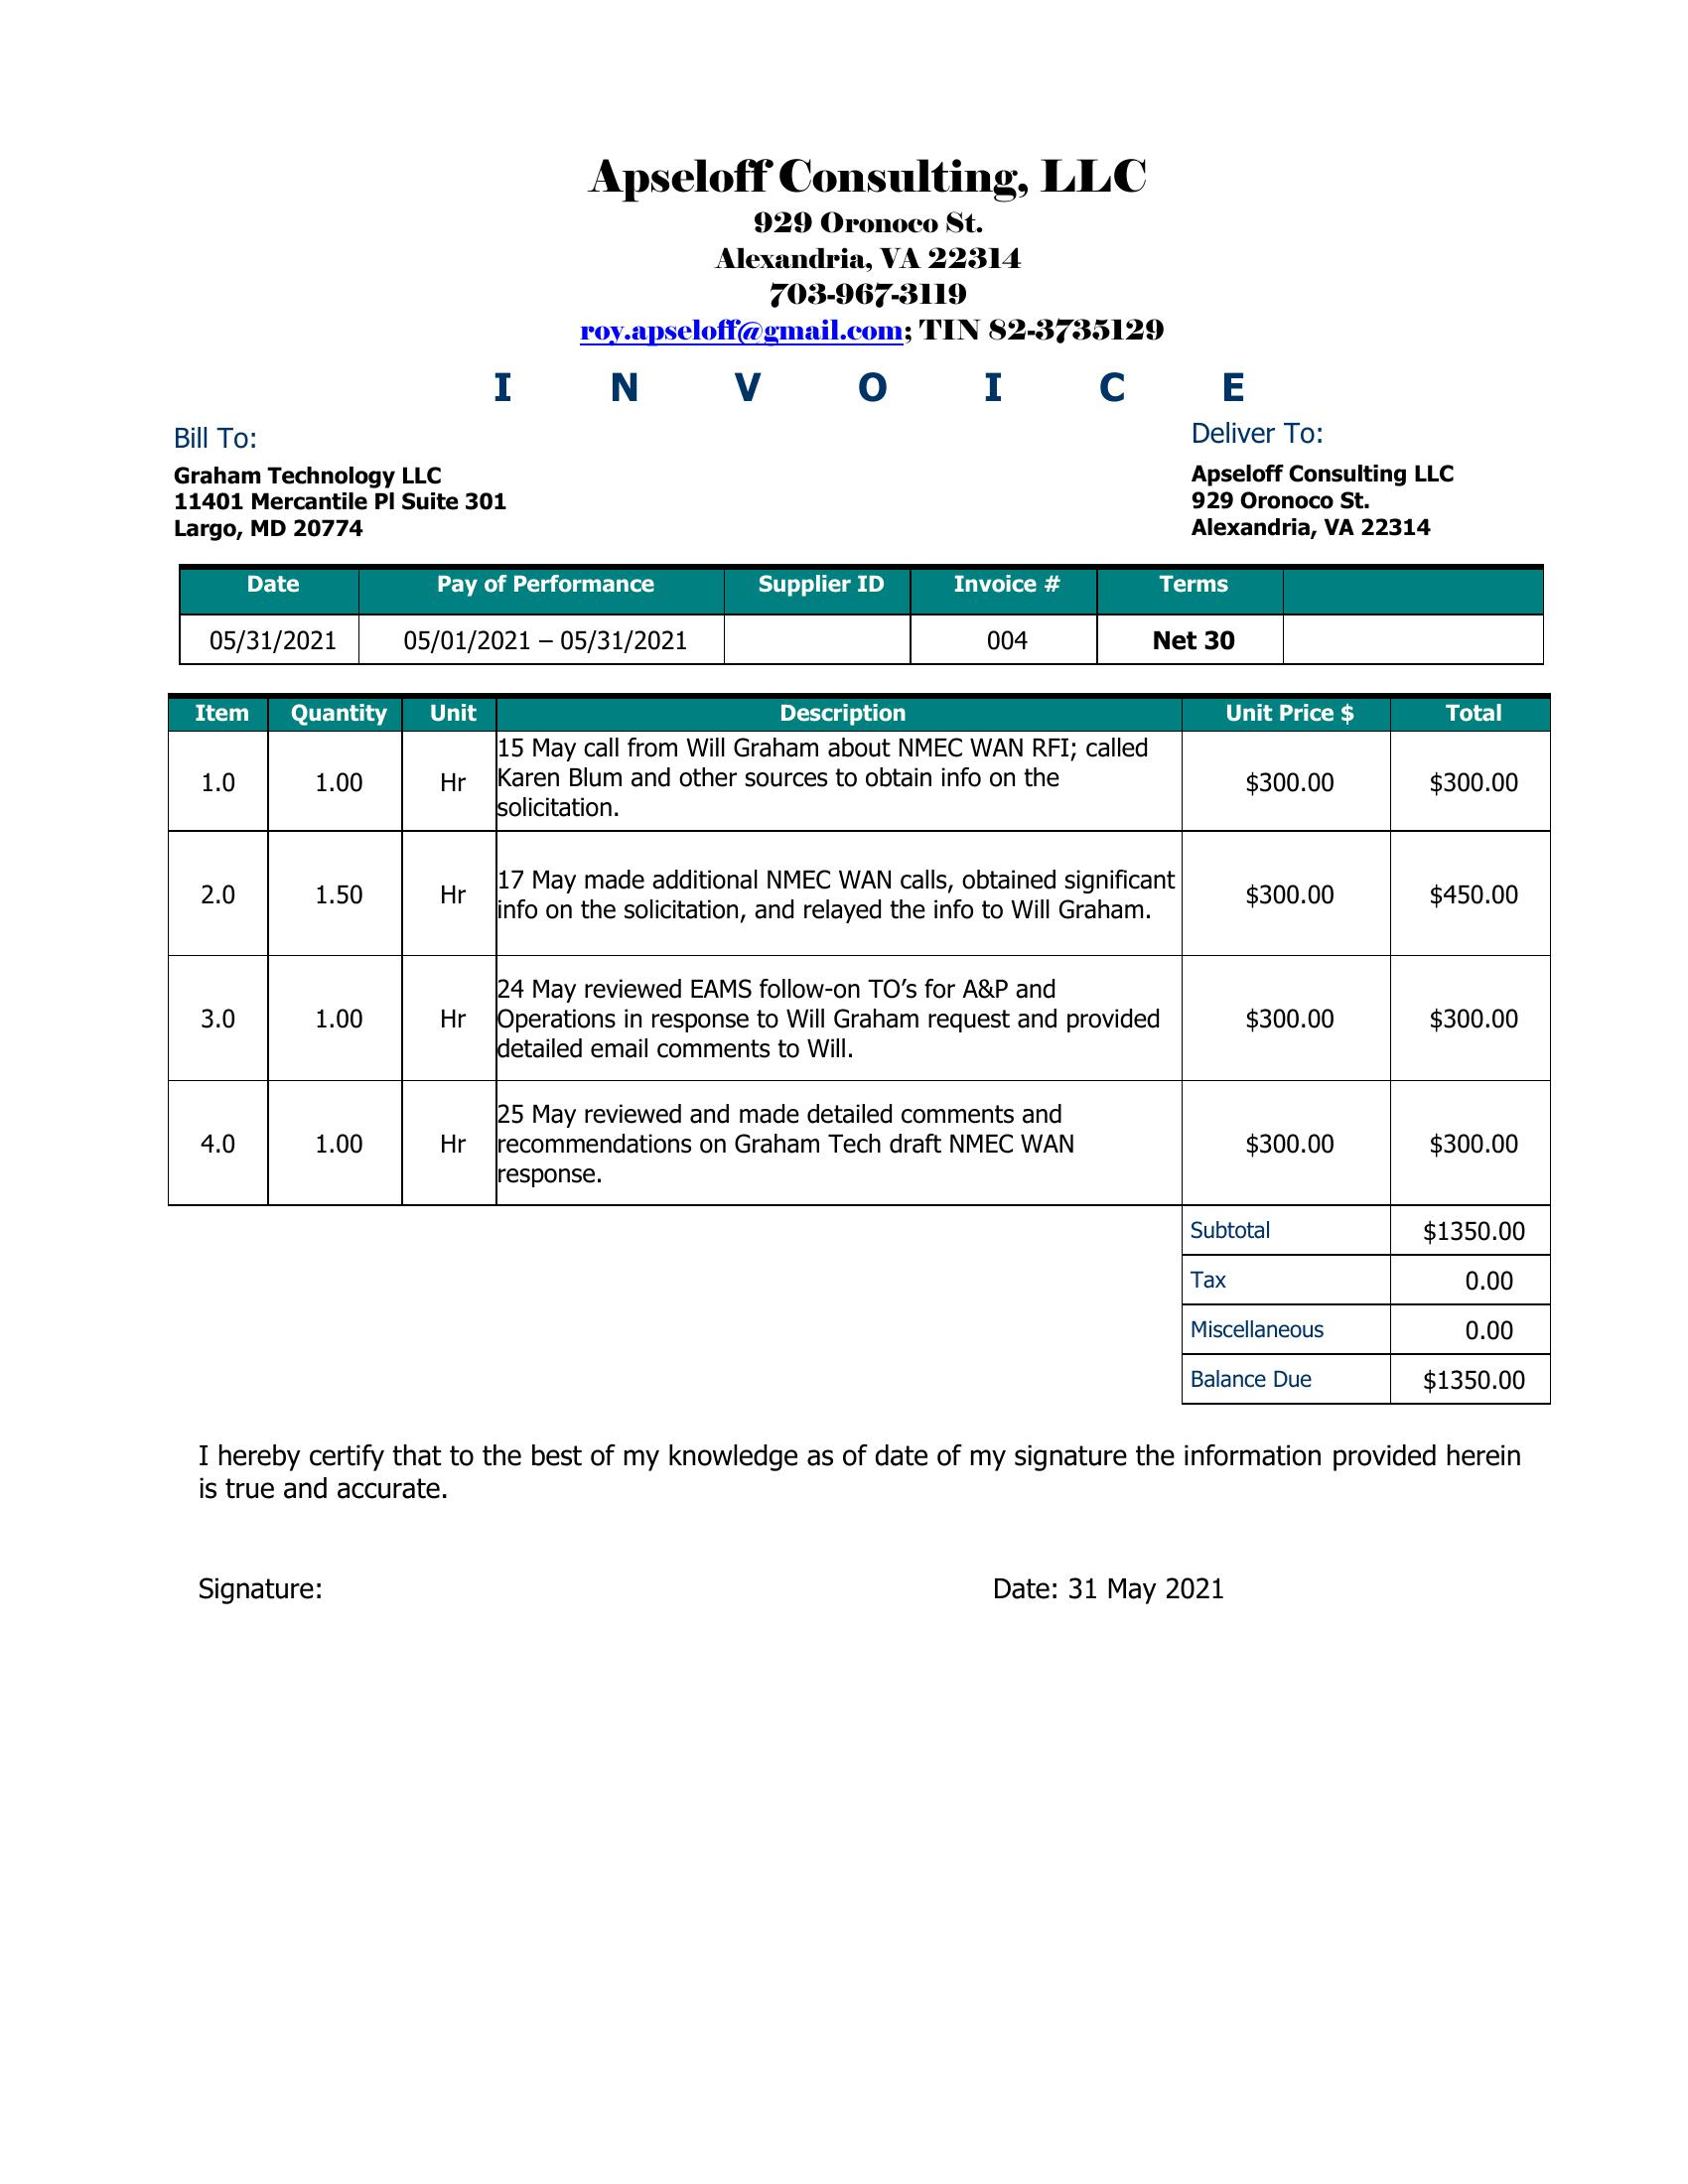table: (149, 690, 1576, 1218), (172, 550, 1564, 675)
